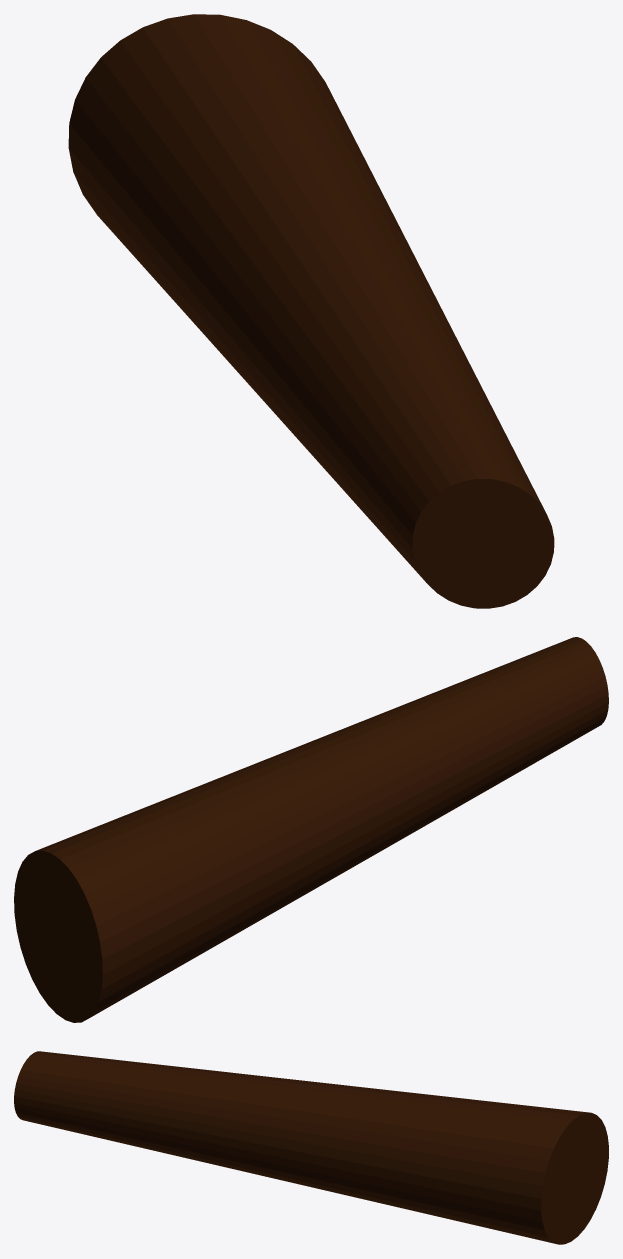
Rendered from tronco1.fbx.
The picture shows the model from 3 angles, top to bottom: view 1: azimuth 30°, elevation 25°; view 2: azimuth 150°, elevation 25°; view 3: azimuth 270°, elevation 25°; orthographic projection. The views are drawn at different scales.
Parts seen in each view (by area): view 1: Cylinder.006; view 2: Cylinder.006; view 3: Cylinder.006.
Boxes of the visible parts, x1,y1,x2,y2 form: Cylinder.006: [68, 14, 554, 608]; Cylinder.006: [14, 637, 608, 1022]; Cylinder.006: [14, 1051, 608, 1244].
Size of the model in its own units: 619 by 346 by 1520.
